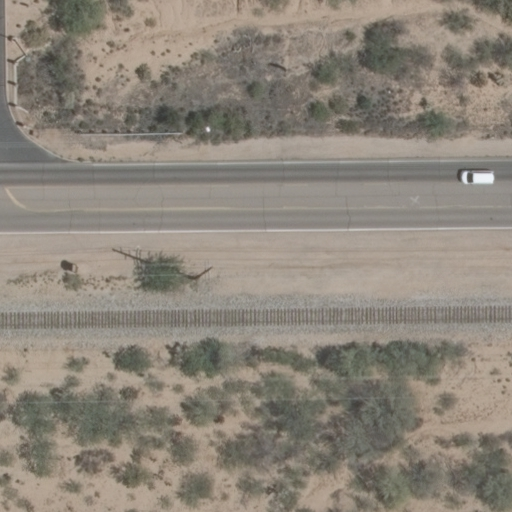DT: (188, 263, 214, 286)
